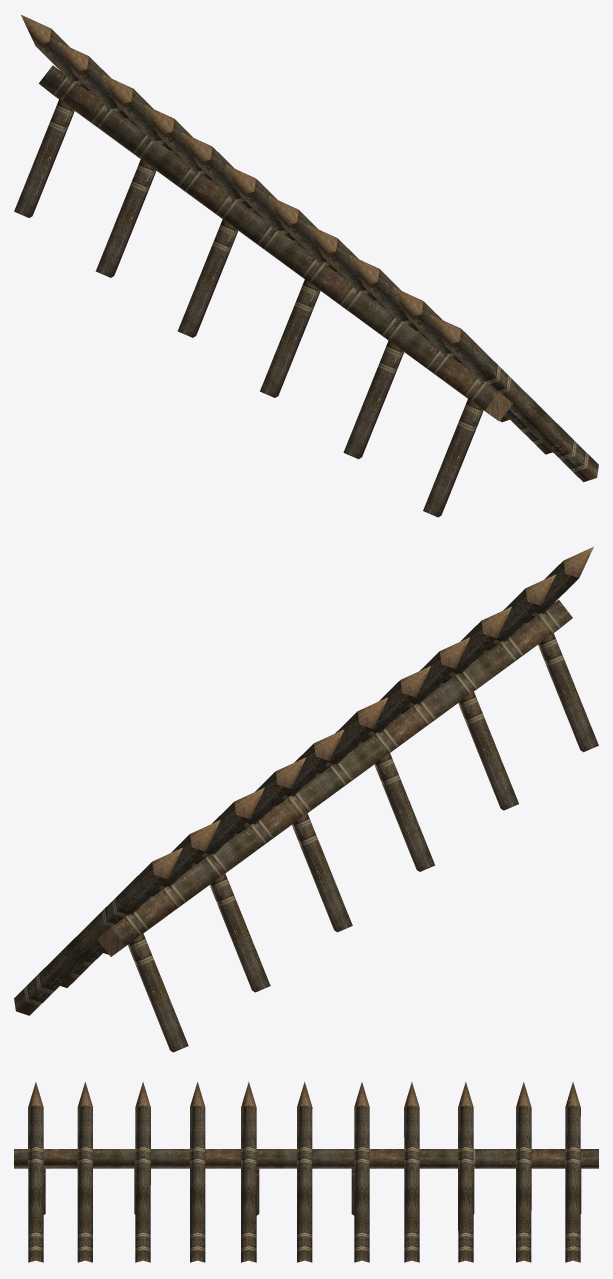
File: w_cd_mc_bari.glb
3 views of the same model, one above another, from view 1: azimuth 30°, elevation 25°; view 2: azimuth 150°, elevation 25°; view 3: azimuth 270°, elevation 25° (orthographic). The views are drawn at different scales.
Parts seen in each view (by area): view 1: W_CD_mc_bari_body, W_CD_mc_bari_edge; view 2: W_CD_mc_bari_body, W_CD_mc_bari_edge; view 3: W_CD_mc_bari_body, W_CD_mc_bari_edge.
Part boxes in pixels (box(x1,y1,x2,y2)): W_CD_mc_bari_body: box(14, 29, 598, 517); W_CD_mc_bari_edge: box(21, 15, 513, 421); W_CD_mc_bari_body: box(14, 561, 598, 1052); W_CD_mc_bari_edge: box(97, 546, 593, 956); W_CD_mc_bari_body: box(14, 1105, 598, 1262); W_CD_mc_bari_edge: box(28, 1081, 580, 1107).
Bounding box in the file's own units: 1.4 × 1.57 × 6.2.
2 materials, 2 textured.
